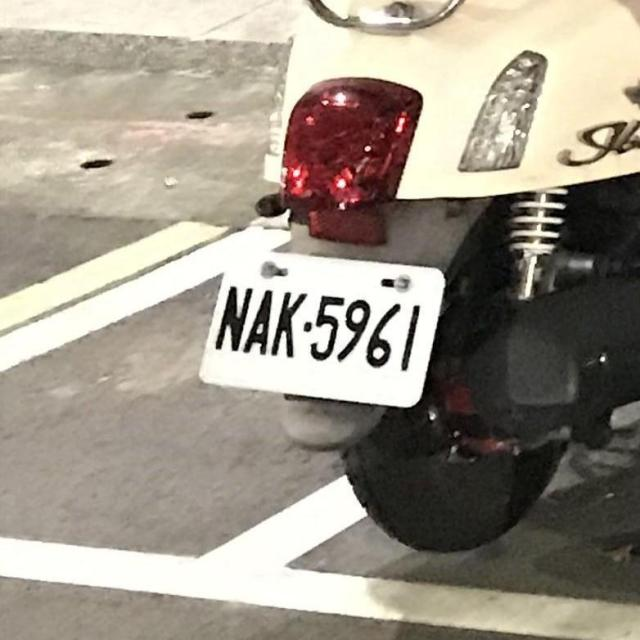W: (193, 225, 449, 421)
